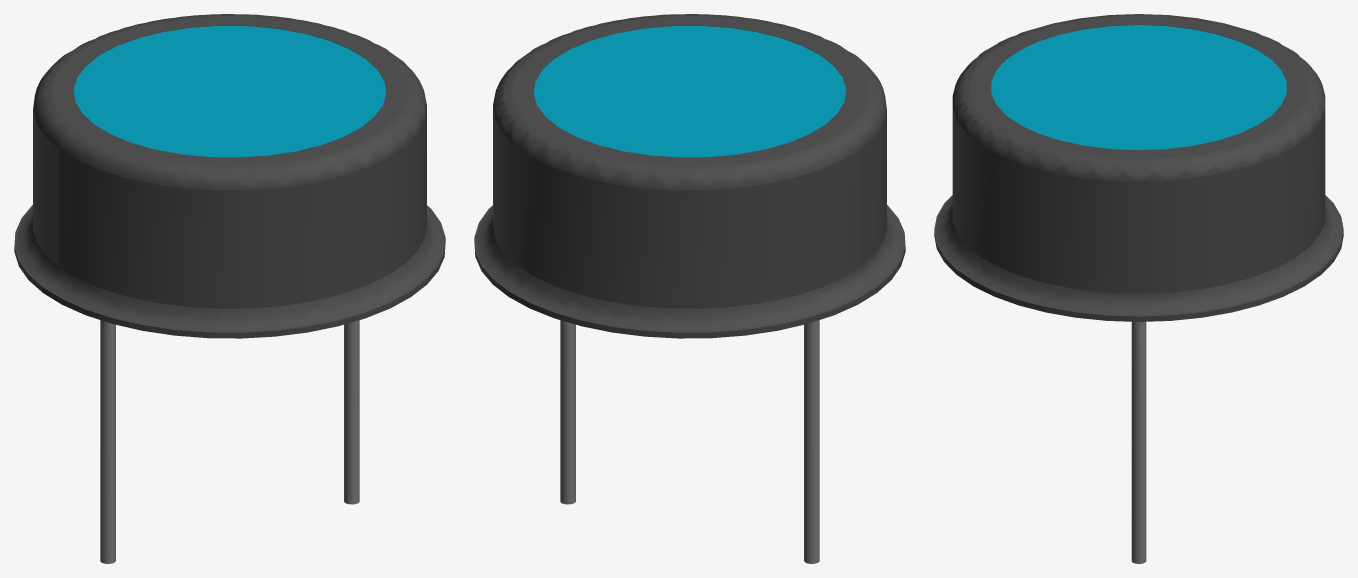
The model's file is kc-r_ldr_d13.8mm_p9.0mm_vertical.glb.
3 renders of one model, left to right at view 1: azimuth 30°, elevation 25°; view 2: azimuth 150°, elevation 25°; view 3: azimuth 270°, elevation 25°, orthographic. The views are drawn at different scales.
Parts seen in each view (by area): view 1: 0.08333333333333333_0.08333333333333333_0.08333333333333333_, 0_0.3333333333333333_0.5_0, 0.25_0.25_0.25_0; view 2: 0.08333333333333333_0.08333333333333333_0.08333333333333333_, 0_0.3333333333333333_0.5_0, 0.25_0.25_0.25_0; view 3: 0.08333333333333333_0.08333333333333333_0.08333333333333333_, 0_0.3333333333333333_0.5_0, 0.25_0.25_0.25_0.
Boxes of the visible parts, box(x1,y1,x2,y2) form: 0.08333333333333333_0.08333333333333333_0.08333333333333333_: box(14, 14, 445, 338); 0_0.3333333333333333_0.5_0: box(73, 26, 386, 157); 0.25_0.25_0.25_0: box(100, 320, 359, 563); 0.08333333333333333_0.08333333333333333_0.08333333333333333_: box(474, 14, 905, 338); 0_0.3333333333333333_0.5_0: box(533, 26, 846, 157); 0.25_0.25_0.25_0: box(560, 320, 819, 563); 0.08333333333333333_0.08333333333333333_0.08333333333333333_: box(934, 14, 1343, 321); 0_0.3333333333333333_0.5_0: box(991, 25, 1286, 150); 0.25_0.25_0.25_0: box(1131, 321, 1146, 563).
Size of the model in its own units: 1.38 by 1.55 by 1.38.
